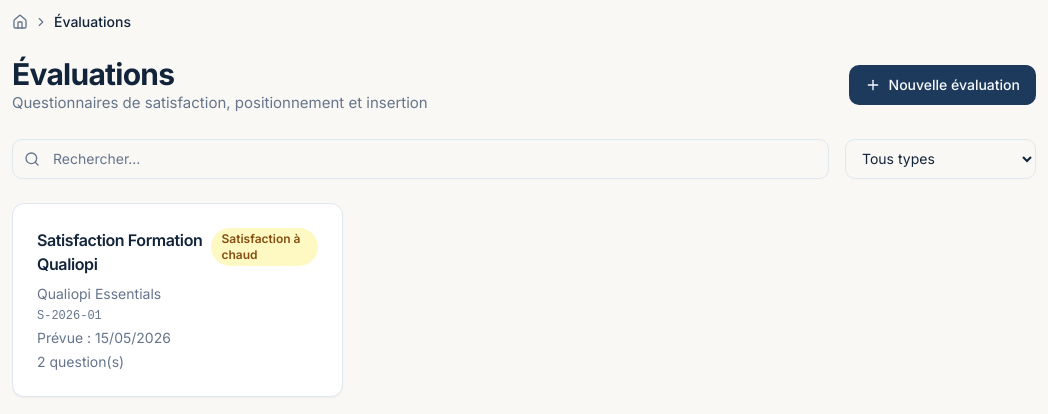
Test case: EvaluationsListPage › shows "aucun résultat" when search filters everything out
Type "zzz" into the field with placeholder "Rechercher..." at coordinates (420, 158), box x1=12 y1=138 x2=829 y2=178
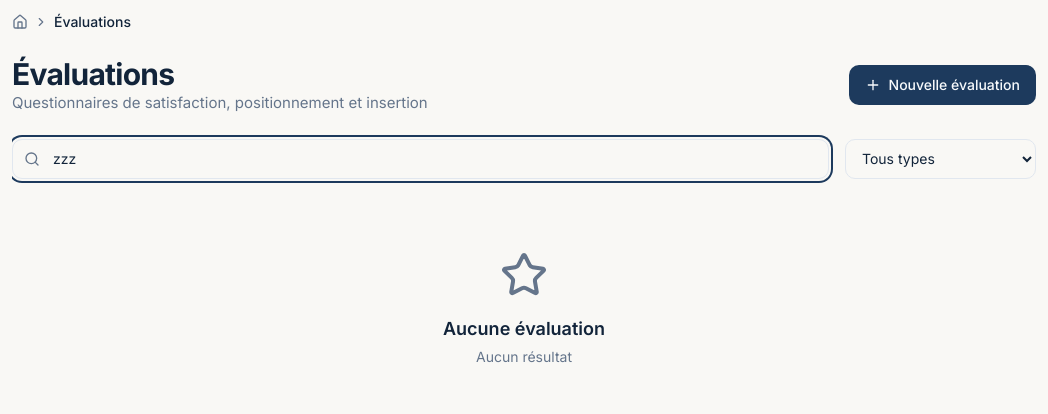
Now the heading "Aucune évaluation" is shown, box x1=443 y1=314 x2=605 y2=342
Now the text "Aucun résultat" is shown, box x1=476 y1=346 x2=572 y2=366
